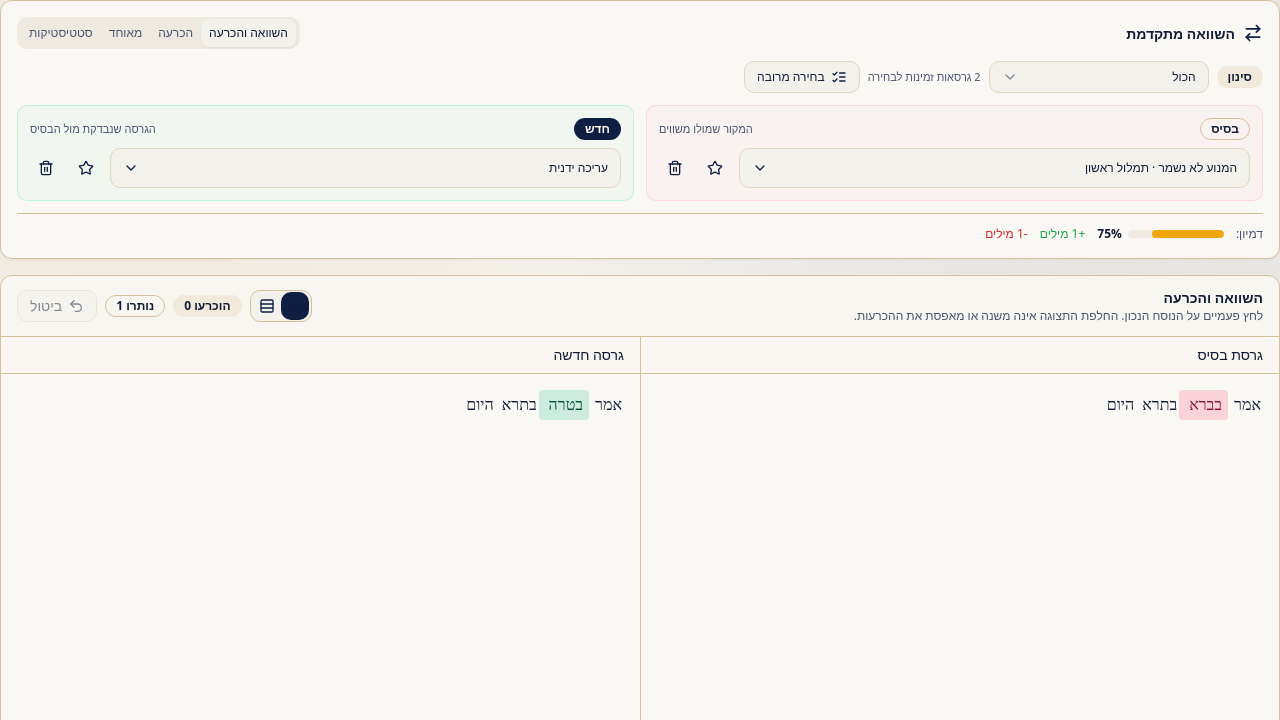
Scenario: AdvancedDiffView adjudication › opens quick adjudication directly from the regular side-by-side view
The width and height of the screenshot is (1280, 720).
Double-click the button titled "לחץ פעמיים לאפשרויות אישור מגרסת הבסיס": (1204, 405) [1179,390,1228,420]
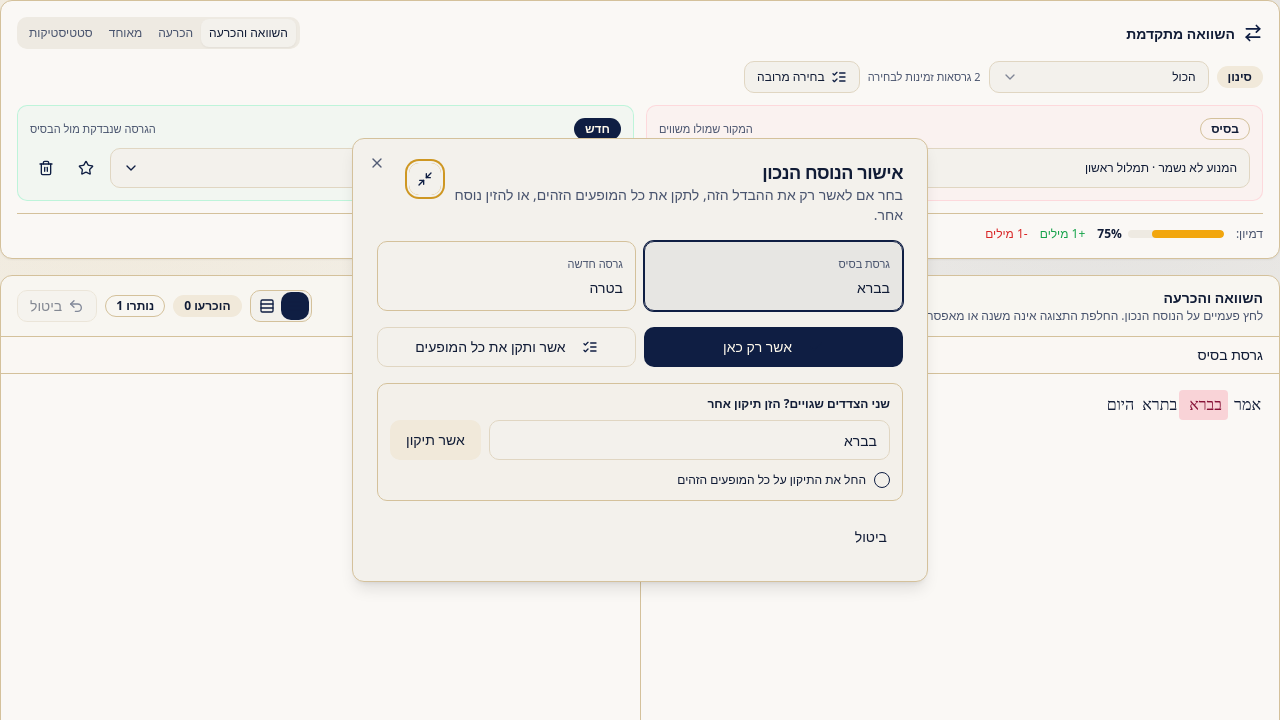
Check: the dialog with test id "quick-adjudication-dialog" is shown, box [352,138,928,582]
Click the button with test id "confirm-quick-once": (774, 347) [644,327,903,367]
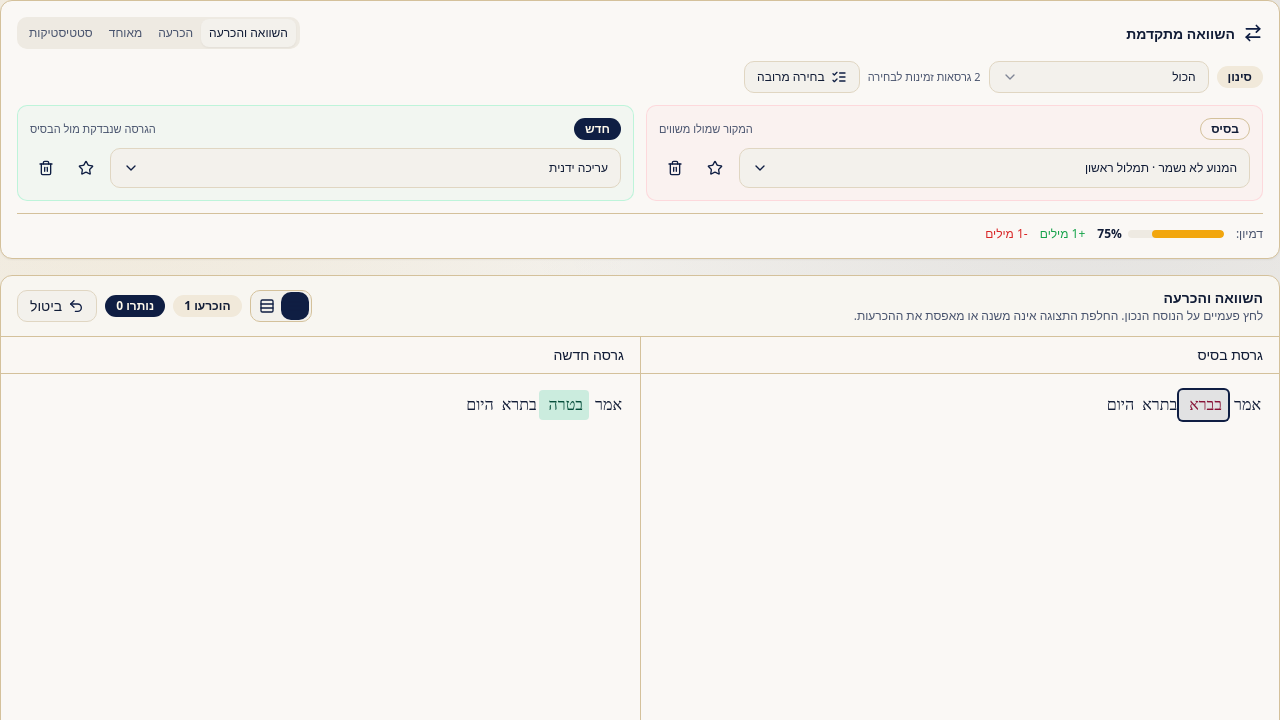
Click the tab "הכרעה": (176, 33) [150,19,201,47]
(page scrolled)
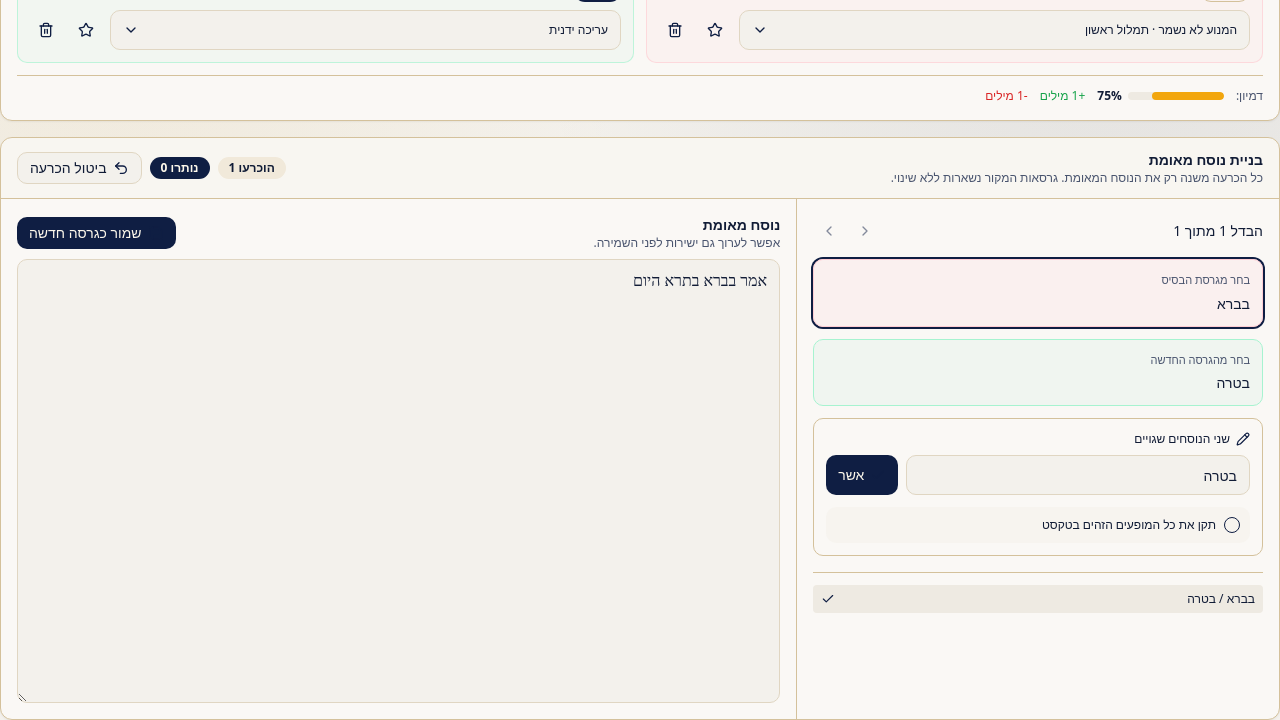
Check: the text box with test id "verified-text" holds "אמר בברא בתרא היום", box [17,259,780,703]
